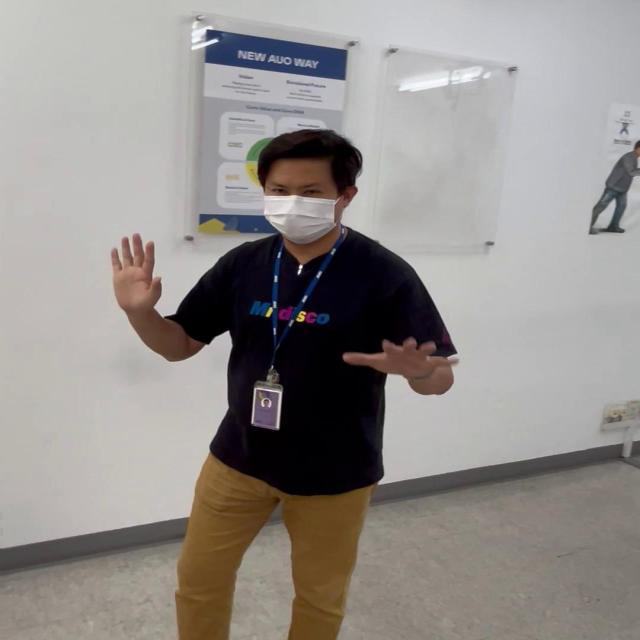bare_hand: (345, 331, 457, 383), (108, 228, 163, 315)
